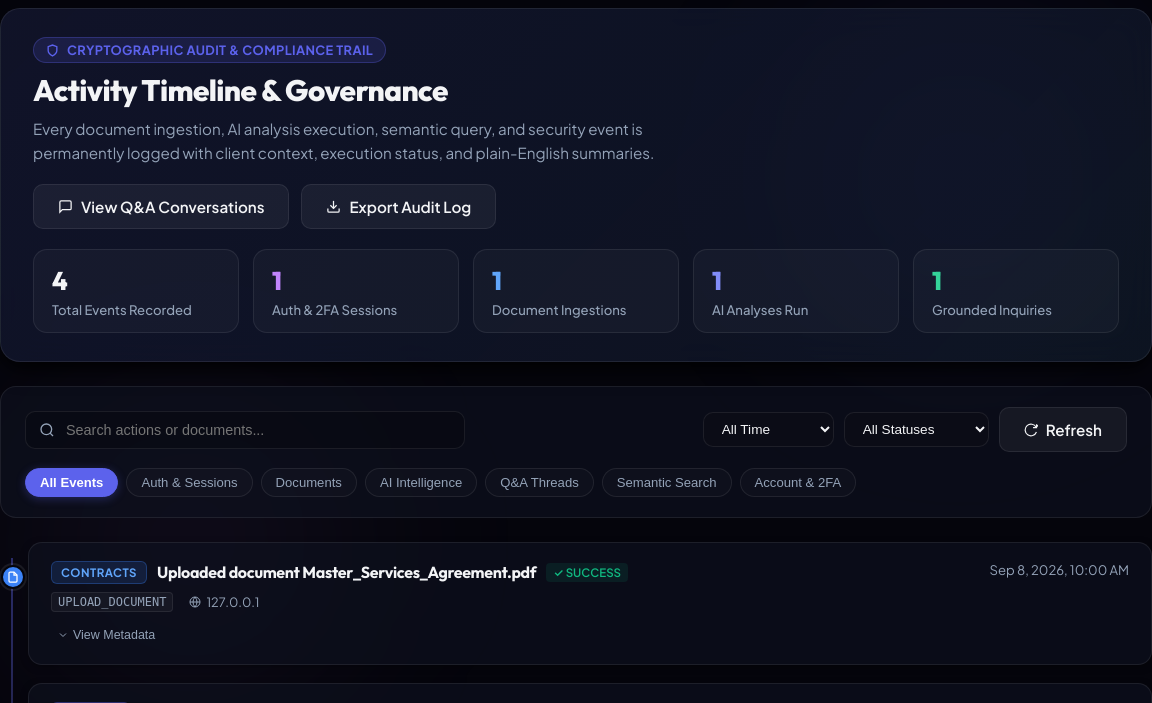
Scenario: HistoryPage Component Tests › filters displayed activity items when searching via quick search input
Expected: the heading "Uploaded document Master_Services_Agreement.pdf" is shown, left=157, top=561, right=536, bottom=584
In the field with placeholder "Search actions or documents...": (245, 430) left=25, top=411, right=465, bottom=449, type "LangGraph"
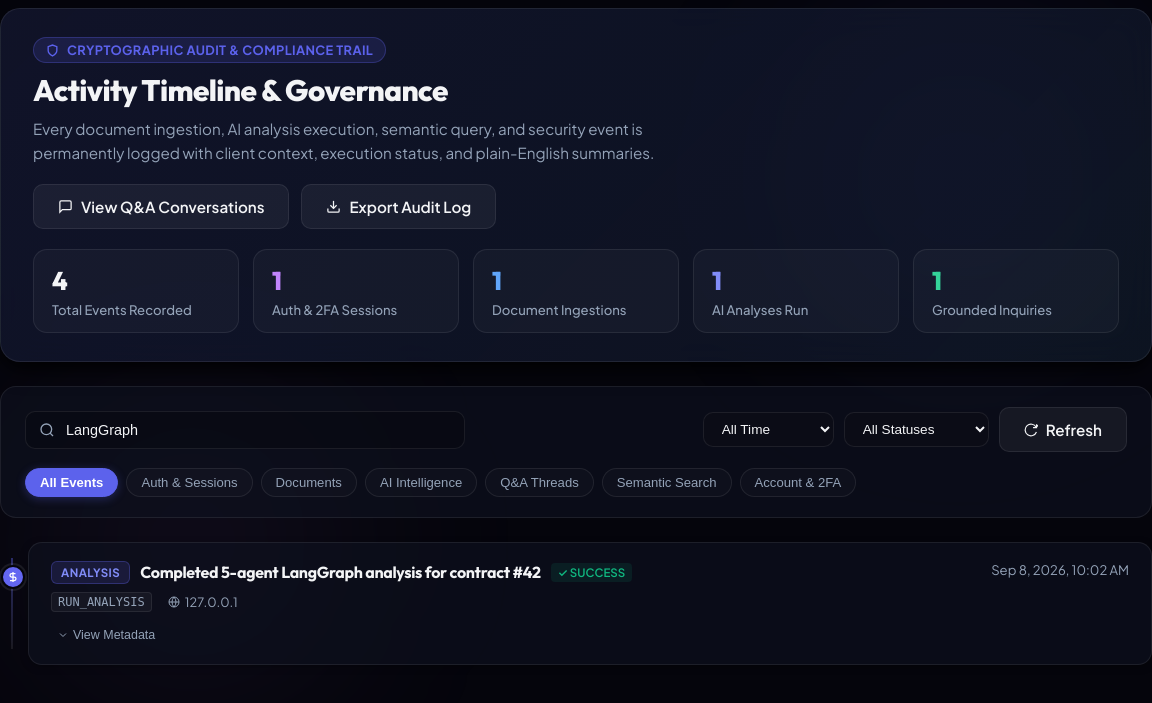
Expected: the heading "Completed 5-agent LangGraph analysis for contract #42" is shown, left=140, top=561, right=541, bottom=584
Now the heading "Uploaded document Master_Services_Agreement.pdf" is gone
